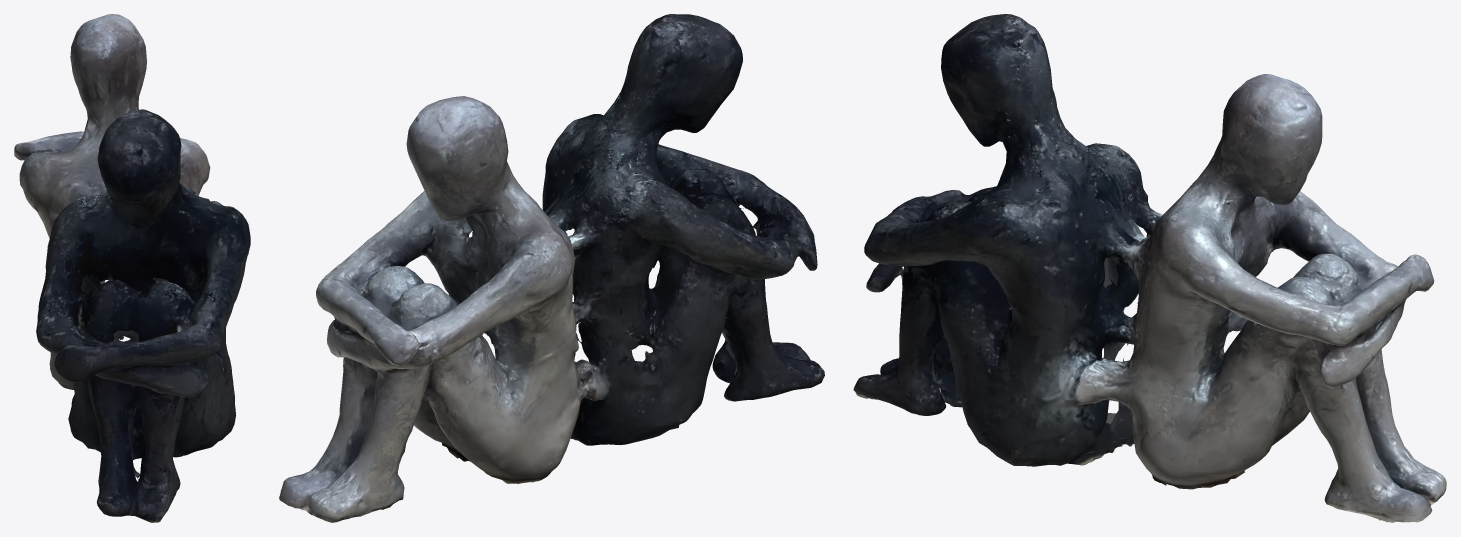
3 renders of one model, left to right at view 1: azimuth 30°, elevation 25°; view 2: azimuth 150°, elevation 25°; view 3: azimuth 270°, elevation 25°, orthographic. The views are drawn at different scales.
Visible parts, largest first — view 1: Mesh_0.015; view 2: Mesh_0.015; view 3: Mesh_0.015.
Part boxes in pixels (x1,y1,x2,y2): Mesh_0.015: [14, 14, 250, 522]; Mesh_0.015: [279, 14, 824, 522]; Mesh_0.015: [853, 14, 1446, 522].
Size of the model in its own units: 1.17 by 1.35 by 1.81.
Materials: 10 (7 with a texture image).
